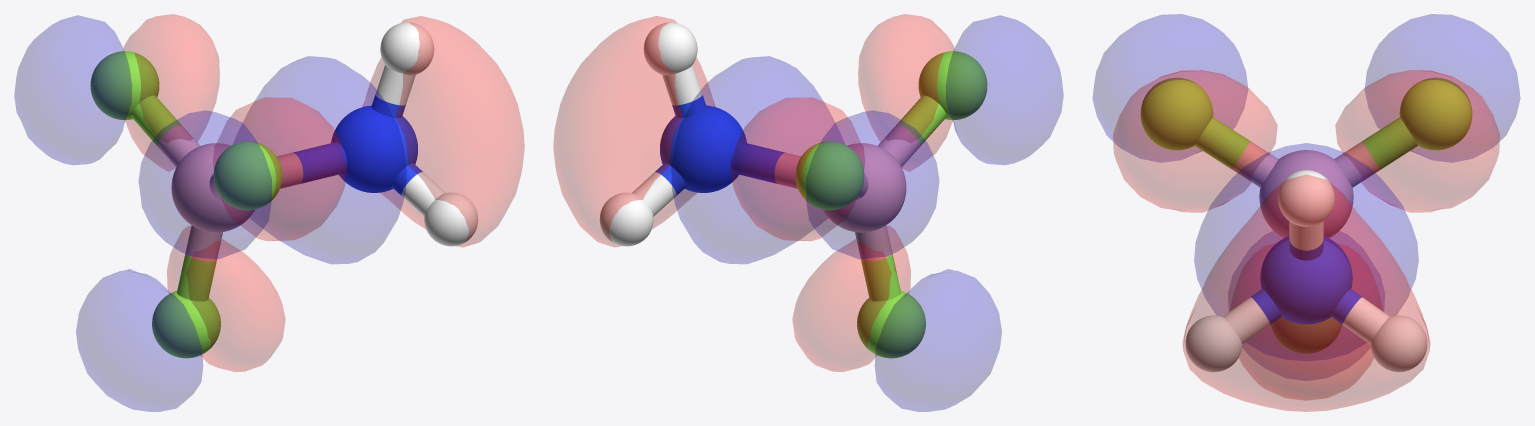
The picture shows the model from 3 angles, left to right: view 1: azimuth 30°, elevation 25°; view 2: azimuth 150°, elevation 25°; view 3: azimuth 270°, elevation 25°; orthographic projection. The views are drawn at different scales.
Visible parts, largest first — view 1: surface.001, surface, atoms.001, atoms.003, atoms.002, atoms, bonds, bonds.001, bonds.003, bonds.002; view 2: surface.001, surface, atoms.001, atoms.003, atoms.002, atoms, bonds, bonds.001, bonds.003, bonds.002; view 3: surface, surface.001, atoms.001, atoms.002, atoms.003, atoms, bonds.002, bonds.001, bonds, bonds.003.
Boxes of the visible parts, x1,y1,x2,y2 form: surface.001: (14, 15, 406, 411); surface: (123, 14, 524, 371); atoms.001: (90, 51, 282, 358); atoms.003: (331, 105, 417, 192); atoms.002: (380, 22, 478, 246); atoms: (171, 143, 254, 232); bonds: (158, 125, 303, 261); bonds.001: (131, 95, 216, 301); bonds.003: (292, 95, 422, 195); bonds.002: (375, 65, 445, 216); surface.001: (671, 15, 1063, 411); surface: (553, 14, 954, 371); atoms.001: (795, 51, 987, 358); atoms.003: (660, 105, 746, 192); atoms.002: (599, 22, 697, 246); atoms: (823, 143, 906, 232); bonds: (774, 125, 919, 261); bonds.001: (861, 95, 946, 301); bonds.003: (655, 95, 785, 195); bonds.002: (632, 65, 702, 216); surface: (1113, 70, 1499, 411); surface.001: (1092, 14, 1520, 378); atoms.001: (1140, 77, 1472, 353); atoms.002: (1185, 170, 1427, 372); atoms.003: (1260, 236, 1352, 324); atoms: (1259, 150, 1353, 237); bonds.002: (1223, 221, 1389, 344); bonds.001: (1195, 117, 1417, 169); bonds: (1232, 141, 1380, 187); bonds.003: (1250, 238, 1362, 324).
Bounding box in the file's own units: 4.51 × 3.43 × 3.77.
